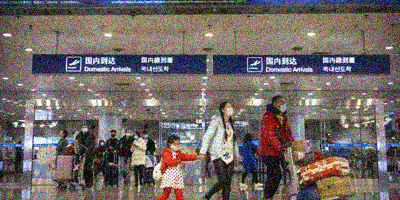mask_weared_incorrect: (170, 142, 180, 152)
with_mask: (278, 100, 288, 113), (225, 105, 235, 117), (82, 127, 89, 134), (126, 131, 132, 138), (111, 132, 116, 138), (134, 134, 139, 140), (143, 134, 149, 139), (101, 142, 105, 146)
without_mask: (59, 131, 64, 138)
